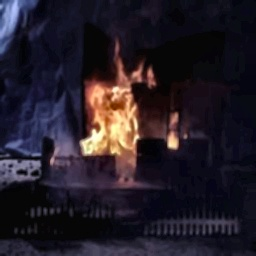fire: (81, 55, 152, 164)
